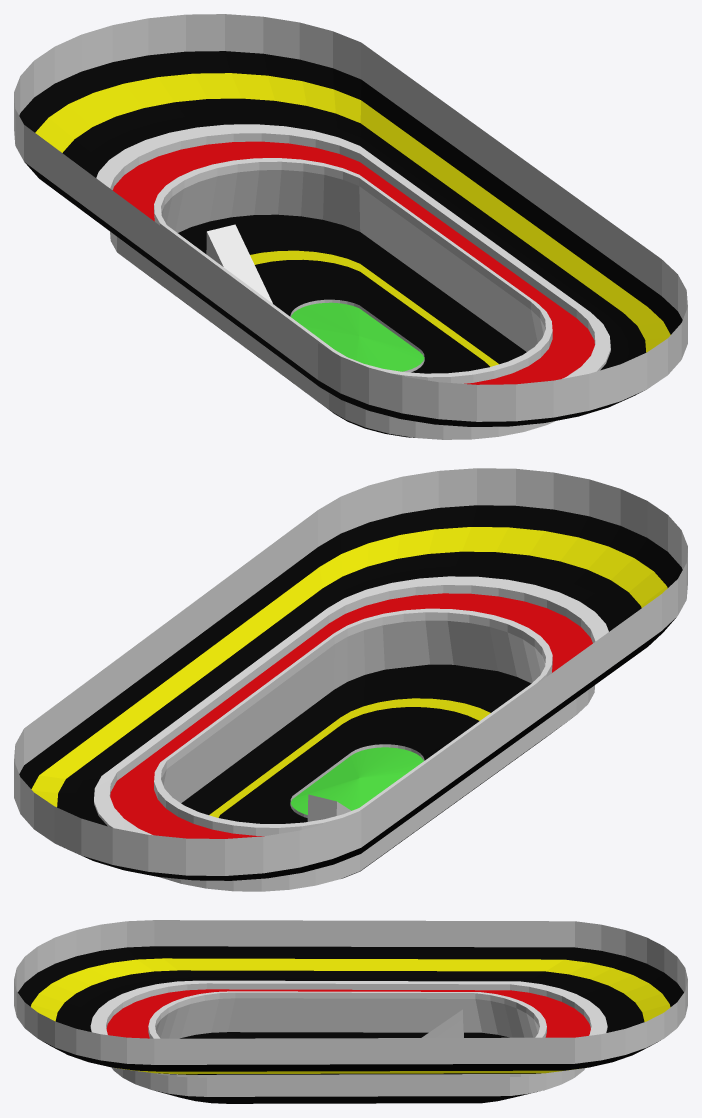
Rendered from racetrackone.fbx.
3 renders of one model, top to bottom at view 1: azimuth 30°, elevation 25°; view 2: azimuth 150°, elevation 25°; view 3: azimuth 270°, elevation 25°, orthographic. The views are drawn at different scales.
Visible parts, largest first — view 1: Track One; view 2: Track One; view 3: Track One.
Boxes of the visible parts, x1,y1,x2,y2 form: Track One: [14, 14, 687, 439]; Track One: [14, 468, 687, 891]; Track One: [14, 920, 687, 1103].
Bounding box in the file's own units: 15951 × 6296 × 38285.
